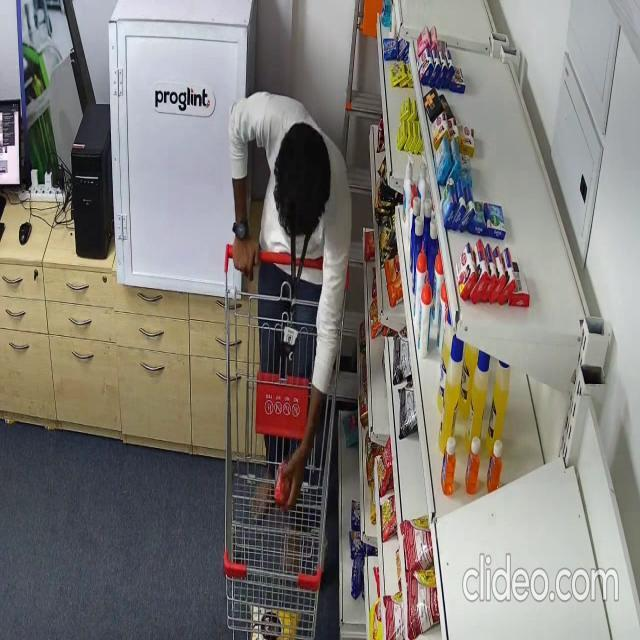normal: (225, 85, 352, 568)
